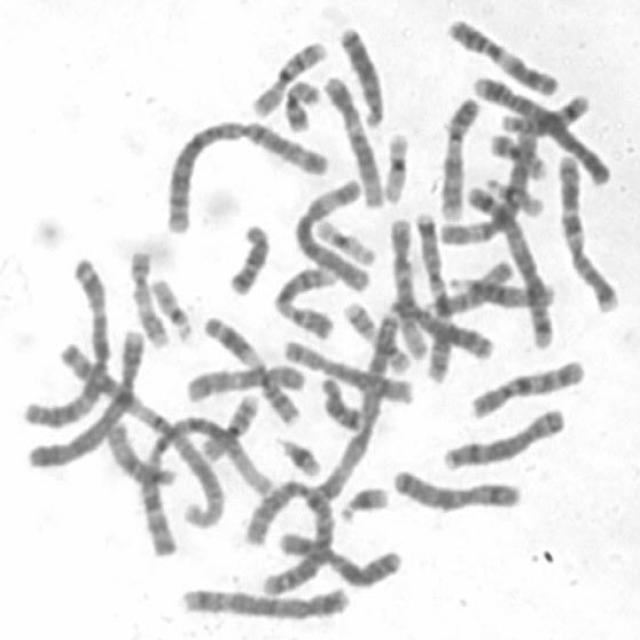A1: (51, 330, 227, 532), (130, 390, 270, 557)
A2: (155, 108, 331, 235), (238, 470, 338, 598)
A3: (314, 297, 407, 509), (16, 249, 114, 429)
B4: (21, 321, 148, 471), (466, 66, 616, 188)
B5: (462, 172, 558, 352), (173, 577, 353, 622)
C10: (461, 349, 588, 420), (178, 354, 308, 404)
C11: (196, 306, 304, 426), (439, 8, 563, 98)
C12: (316, 65, 386, 210), (381, 208, 430, 362)
C6: (432, 120, 540, 247), (287, 172, 375, 294)
C7: (549, 142, 623, 314), (409, 204, 464, 383)
C8: (276, 330, 418, 406), (435, 398, 569, 472)
C9: (431, 88, 483, 224), (266, 256, 340, 341)
D13: (389, 297, 498, 361), (332, 15, 388, 128)
D14: (441, 266, 556, 310), (495, 85, 592, 137)
D15: (97, 413, 178, 490), (422, 256, 515, 320)
E16: (244, 32, 329, 118), (194, 385, 262, 461)
E17: (336, 291, 414, 376), (122, 238, 172, 350)
E18: (220, 214, 273, 298), (314, 368, 366, 432)
F19: (308, 210, 378, 266), (375, 122, 413, 205)
F20: (488, 128, 550, 182), (278, 70, 322, 132)
G21: (332, 475, 391, 523), (270, 428, 324, 478)
G22: (143, 269, 195, 343), (478, 169, 547, 218)
X: (268, 523, 405, 591), (384, 460, 524, 513)
